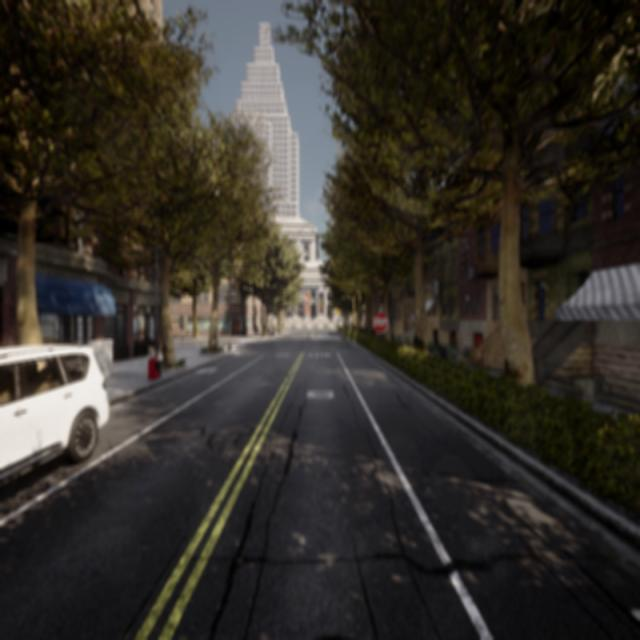stop sign: (370, 307, 390, 335), (372, 314, 388, 329)
